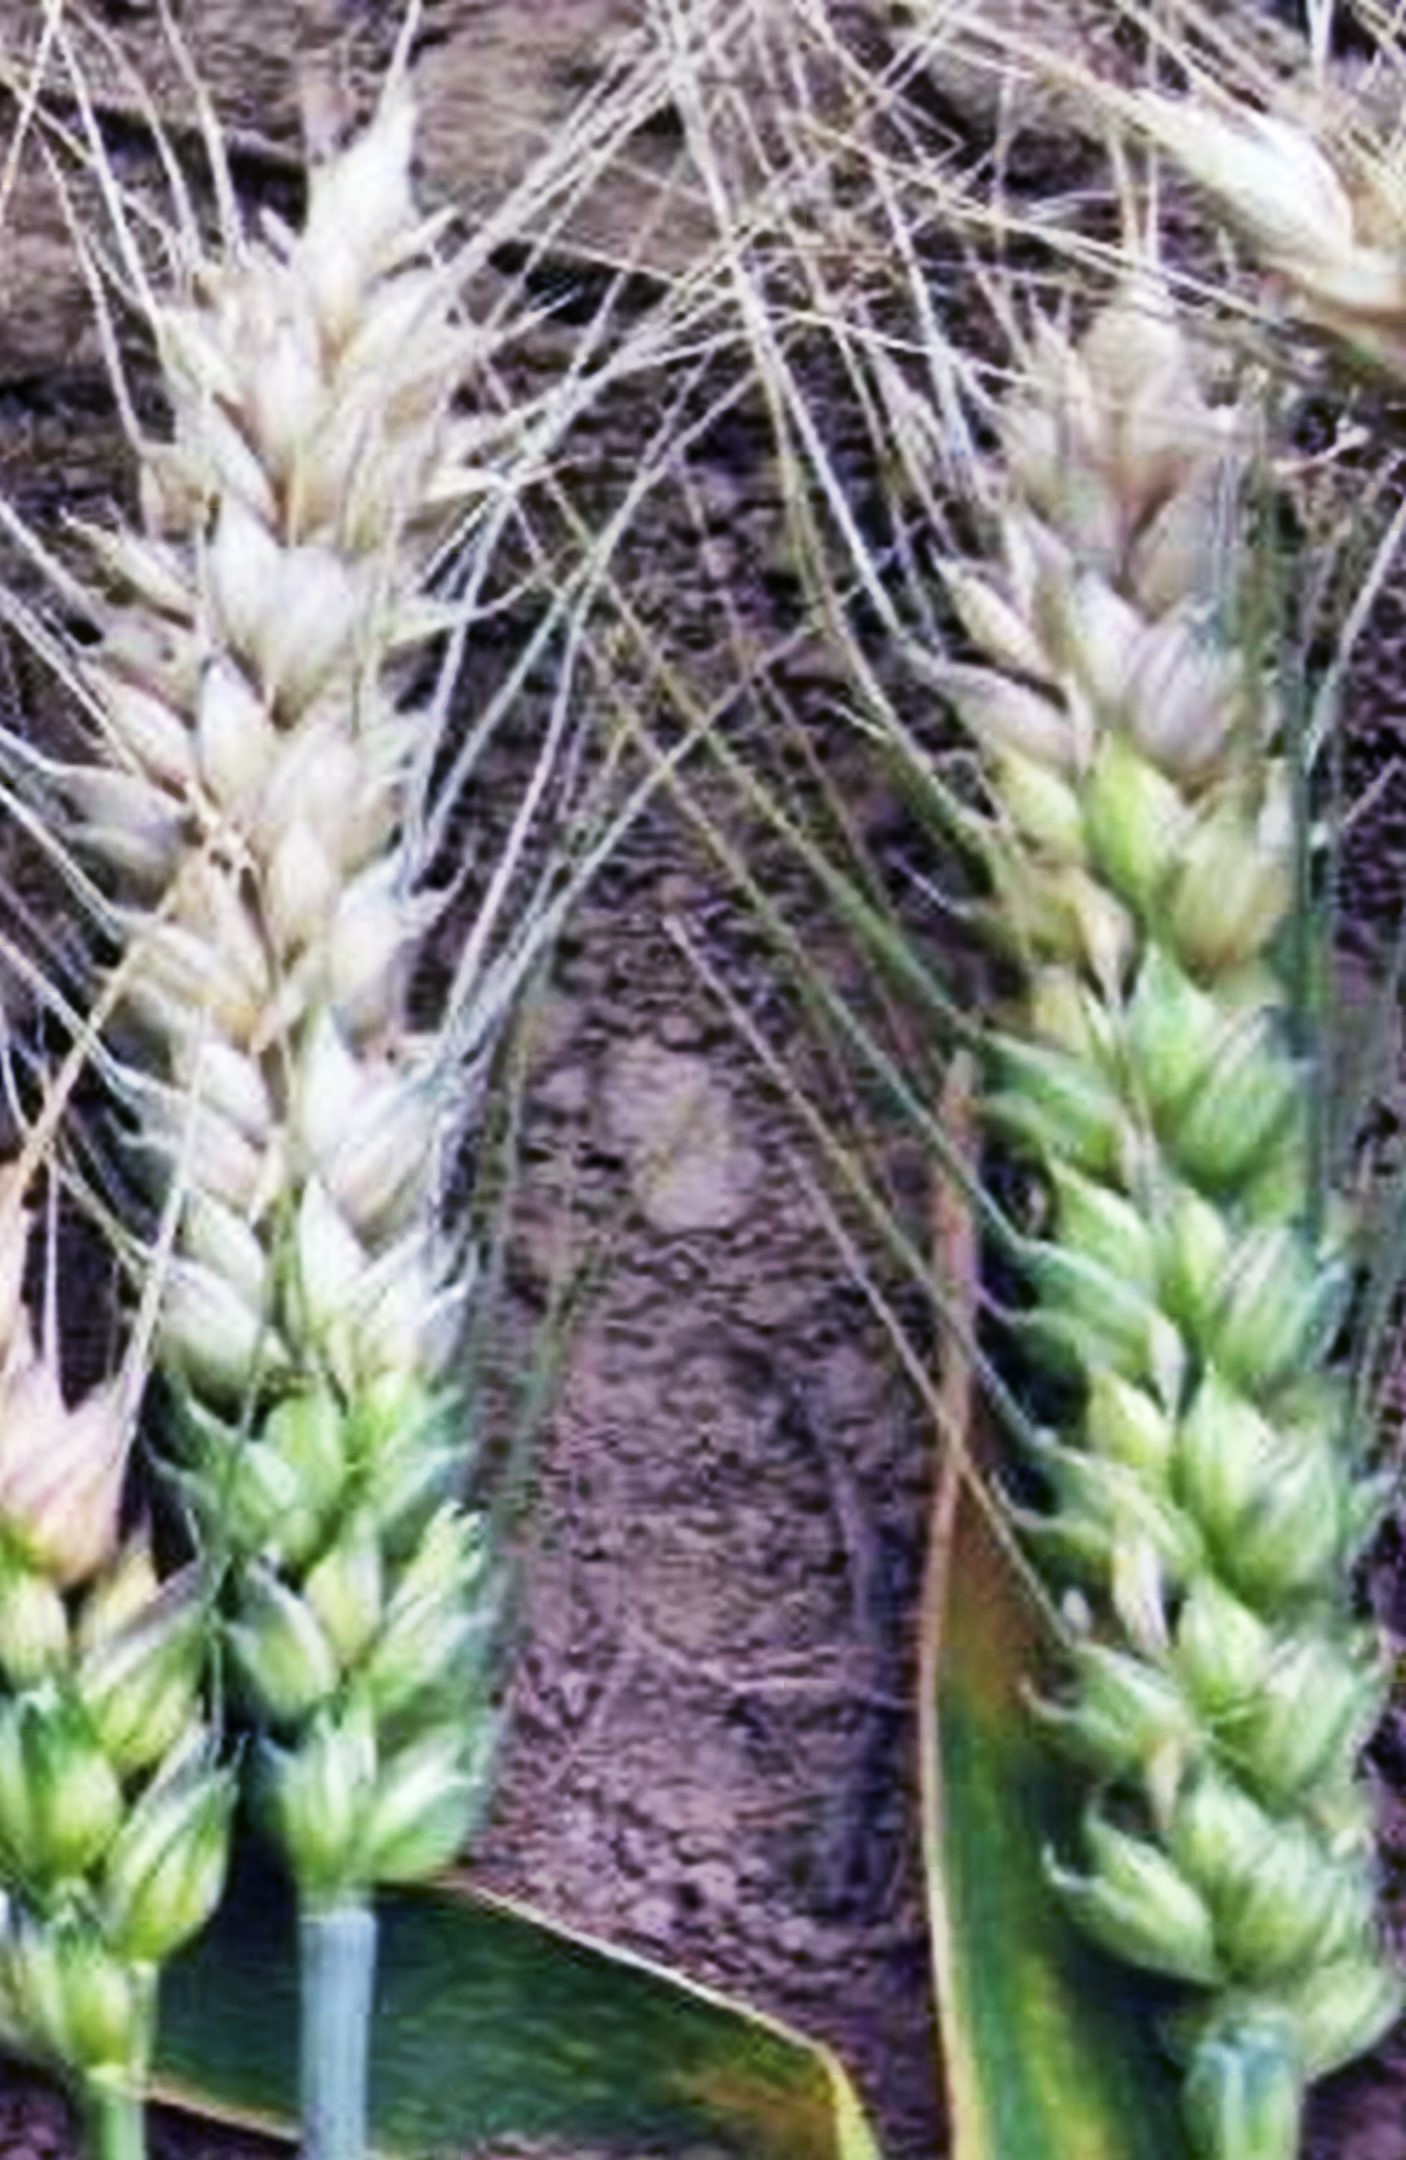Wheat scab: (61, 132, 619, 1940), (855, 272, 1406, 2075)
